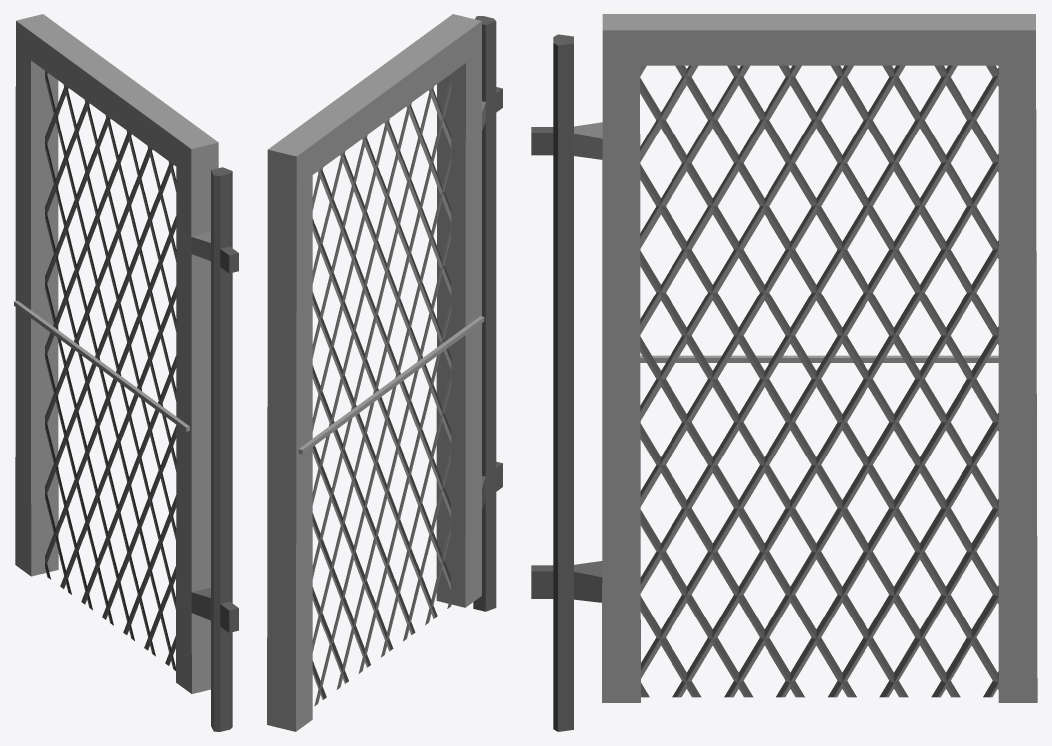
The model's file is Model_Plot4_R.fbx.
3 views of the same model, side by side, from view 1: azimuth 30°, elevation 25°; view 2: azimuth 150°, elevation 25°; view 3: azimuth 270°, elevation 25° (orthographic). The views are drawn at different scales.
Visible parts, largest first — view 1: Cube.001, Plane.004; view 2: Cube.001, Plane.004; view 3: Cube.001, Plane.004.
Boxes of the visible parts, left/top/right/bottom form: Cube.001: left=14, top=14, right=238, bottom=731; Plane.004: left=45, top=71, right=176, bottom=670; Cube.001: left=267, top=14, right=502, bottom=731; Plane.004: left=312, top=74, right=451, bottom=706; Cube.001: left=531, top=14, right=1037, bottom=731; Plane.004: left=640, top=65, right=998, bottom=697.
Bounding box in the file's own units: 142 × 219 × 12.53.
